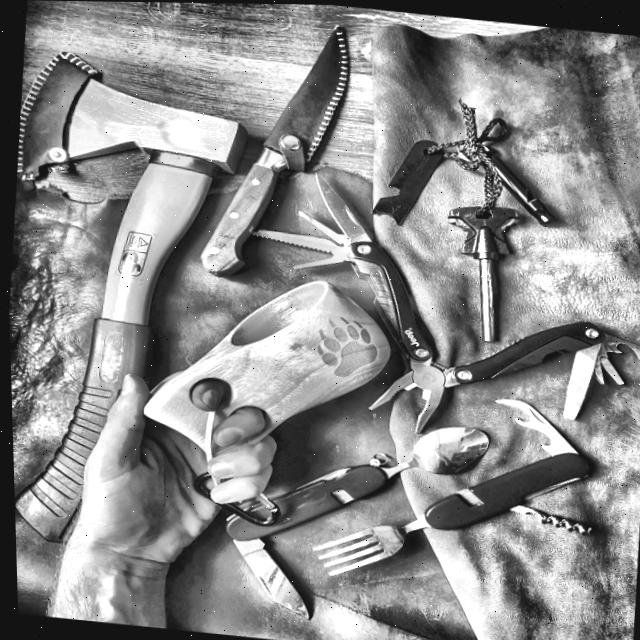kapak: (13, 39, 245, 585)
